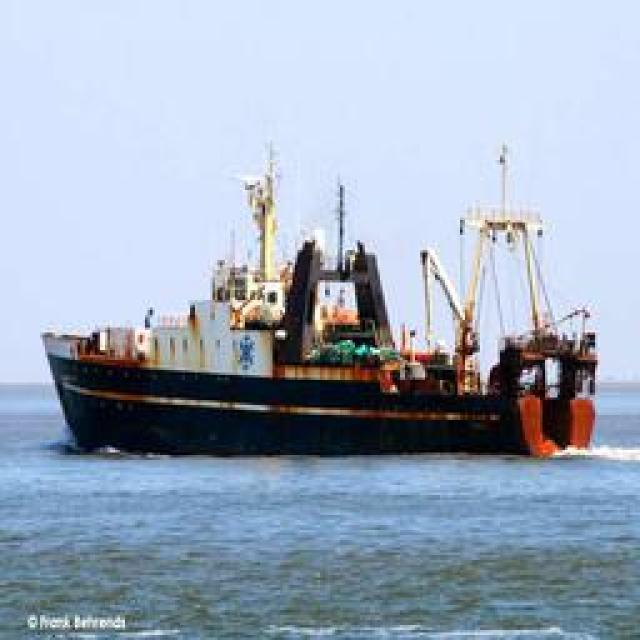Ship: (39, 122, 607, 452)
